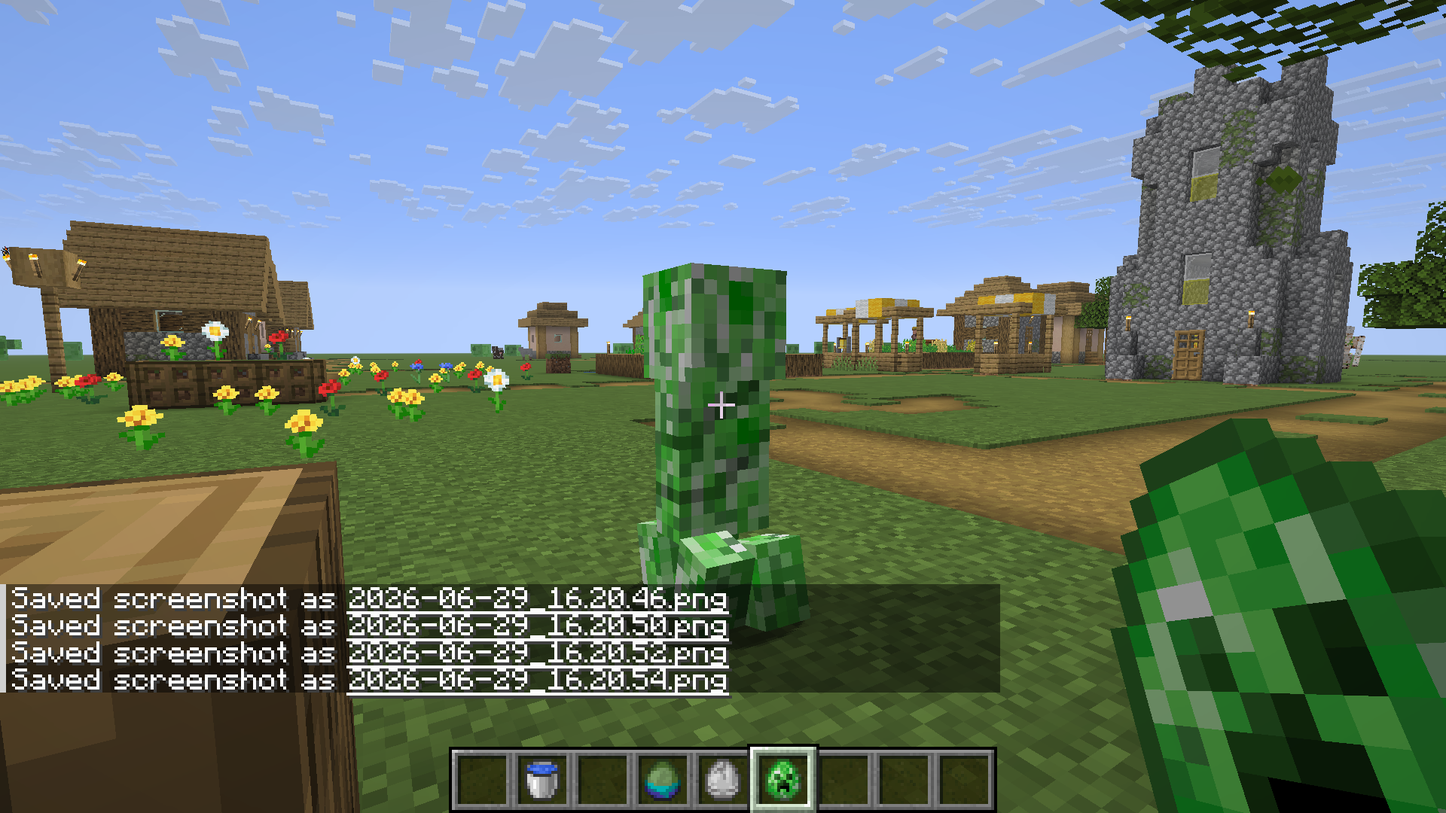creeper: (627, 261, 828, 594)
